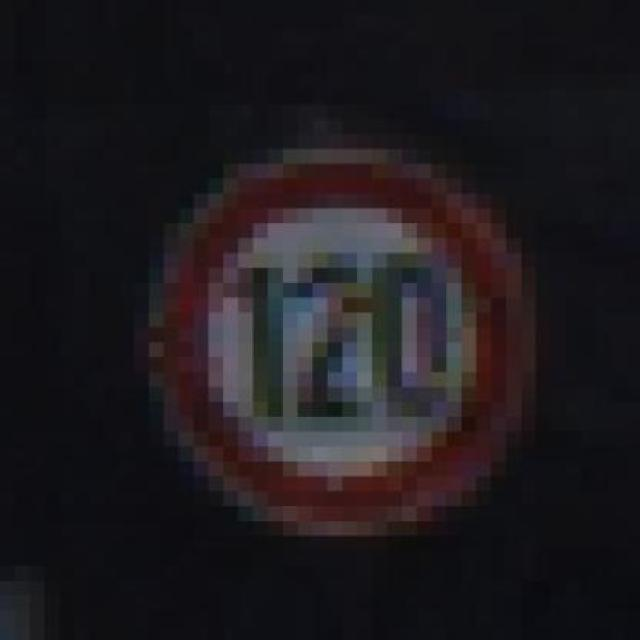forb_speed_over_120: (171, 160, 518, 523)
